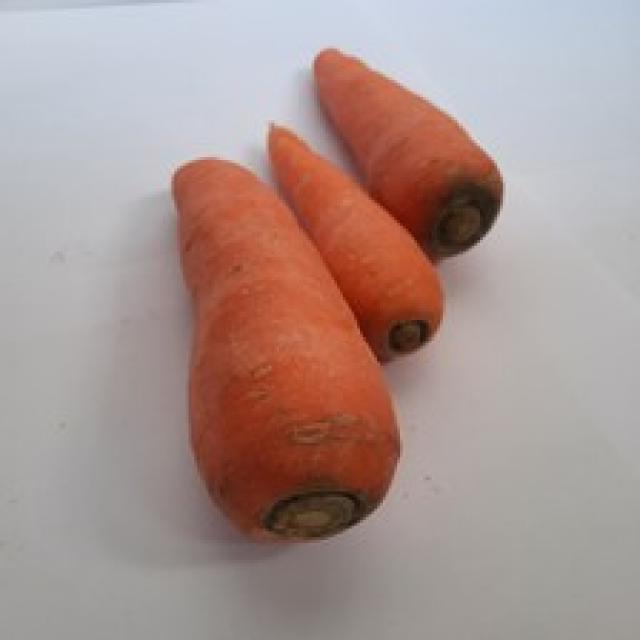carrot: (162, 156, 404, 541), (313, 45, 507, 250), (268, 127, 444, 347)
